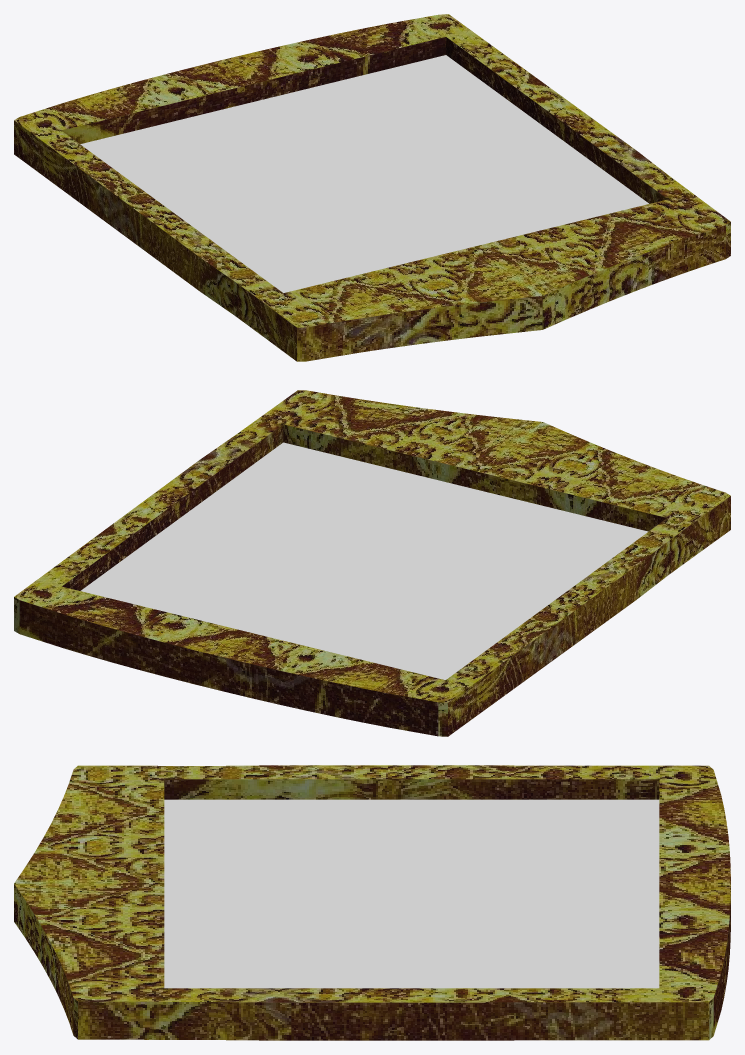
The model's file is STEMMA_COMPLETO.gltf.
3 views of the same model, one above another, from view 1: azimuth 30°, elevation 25°; view 2: azimuth 150°, elevation 25°; view 3: azimuth 270°, elevation 25° (orthographic). The views are drawn at different scales.
Parts seen in each view (by area): view 1: SCUDO3D, PANNELLO; view 2: SCUDO3D, PANNELLO; view 3: SCUDO3D, PANNELLO.
Boxes of the visible parts, left/top/right/bottom form: SCUDO3D: left=14, top=14, right=730, bottom=361; PANNELLO: left=80, top=55, right=648, bottom=292; SCUDO3D: left=14, top=390, right=730, bottom=736; PANNELLO: left=80, top=442, right=648, bottom=679; SCUDO3D: left=14, top=765, right=730, bottom=1040; PANNELLO: left=164, top=799, right=659, bottom=988.
Size of the model in its own units: 6.7 by 0.5 by 8.54.
Materials: 1 (1 with a texture image).
